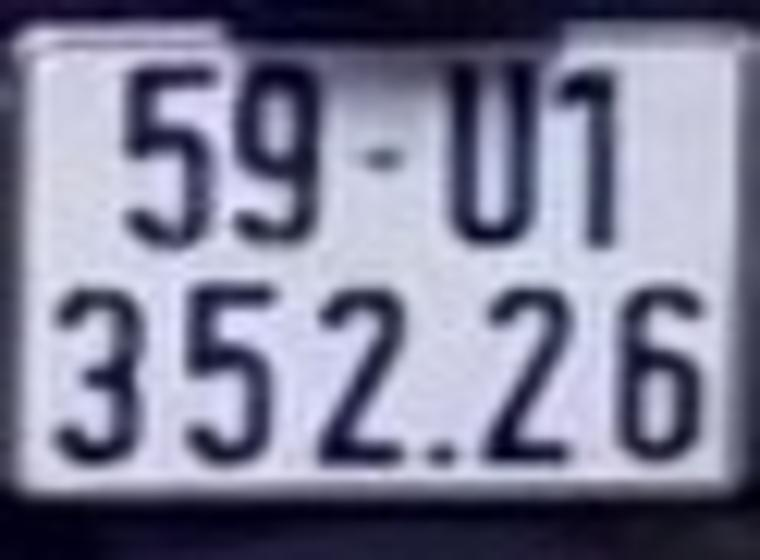-: (352, 142, 413, 180)
.: (425, 436, 464, 473)
1: (553, 59, 628, 256)
2: (310, 278, 417, 474), (479, 280, 584, 472)
3: (44, 284, 150, 471)
5: (112, 55, 228, 255), (183, 271, 286, 478)
6: (610, 271, 718, 469)
9: (223, 55, 326, 257)
U: (436, 57, 549, 252)
